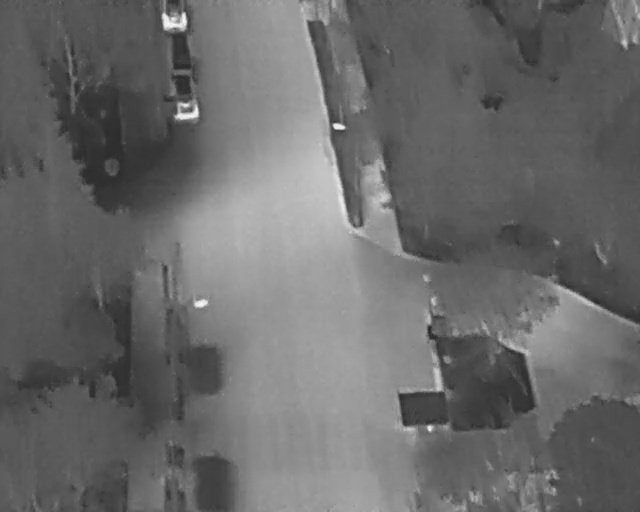Car: (166, 73, 201, 125), (167, 29, 195, 73), (159, 0, 190, 34)
